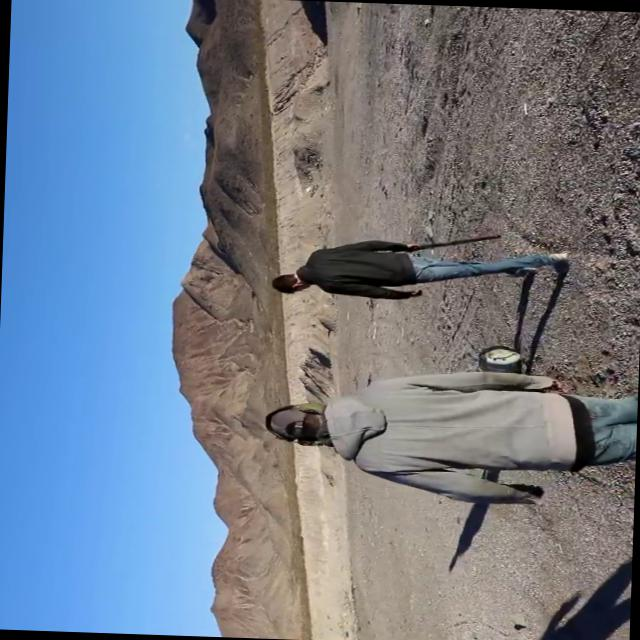long weapon: (379, 228, 509, 260)
